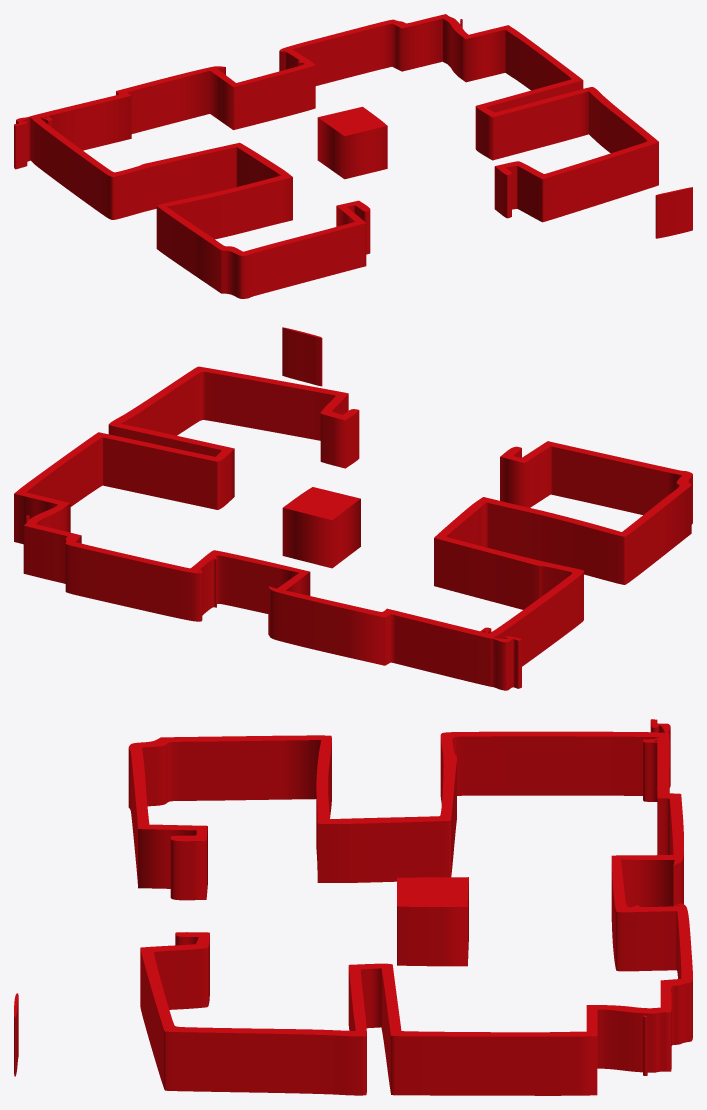
Rendered from batlab.dae.
3 renders of one model, top to bottom at view 1: azimuth 30°, elevation 25°; view 2: azimuth 150°, elevation 25°; view 3: azimuth 270°, elevation 25°, orthographic. The views are drawn at different scales.
Parts seen in each view (by area): view 1: Curve; view 2: Curve; view 3: Curve.
Boxes of the visible parts, x1,y1,x2,y2 form: Curve: [14, 14, 692, 298]; Curve: [14, 327, 692, 690]; Curve: [14, 719, 692, 1095].
Size of the model in its own units: 6.91 by 6.25 by 0.6.
